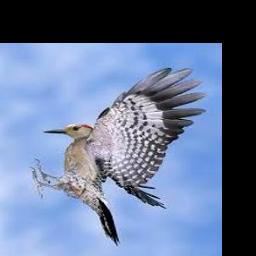Woodpecker: (30, 68, 206, 245)
